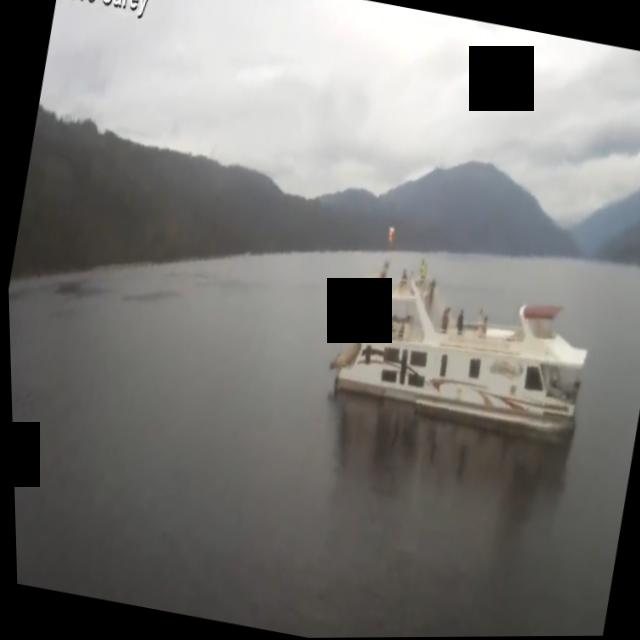Vehicle: (318, 215, 607, 451)
